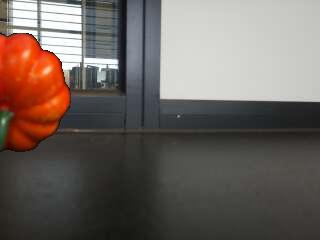Pumpkin: (0, 29, 72, 154)
